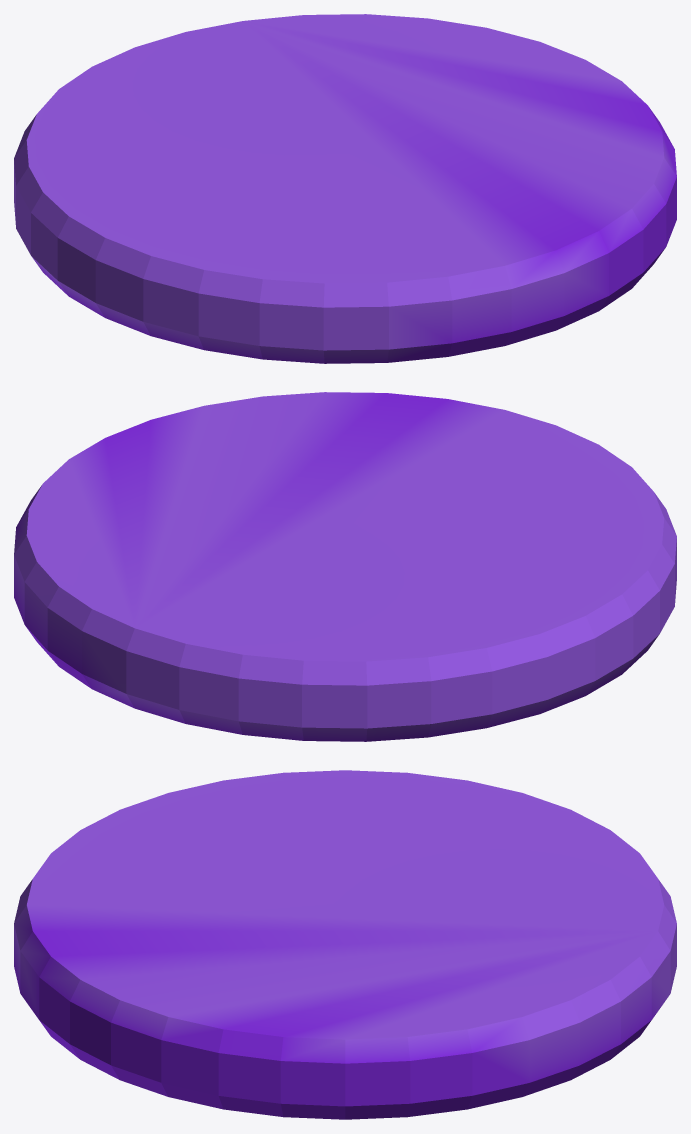
The model's file is purple_middle.fbx.
3 views of the same model, one above another, from view 1: azimuth 30°, elevation 25°; view 2: azimuth 150°, elevation 25°; view 3: azimuth 270°, elevation 25° (orthographic).
Parts seen in each view (by area): view 1: middle blade; view 2: middle blade; view 3: middle blade.
Part boxes in pixels (box(x1,y1,x2,y2)): middle blade: box(14, 14, 676, 363); middle blade: box(14, 392, 676, 741); middle blade: box(14, 770, 676, 1119).
Bounding box in the file's own units: 600 × 80 × 600.
